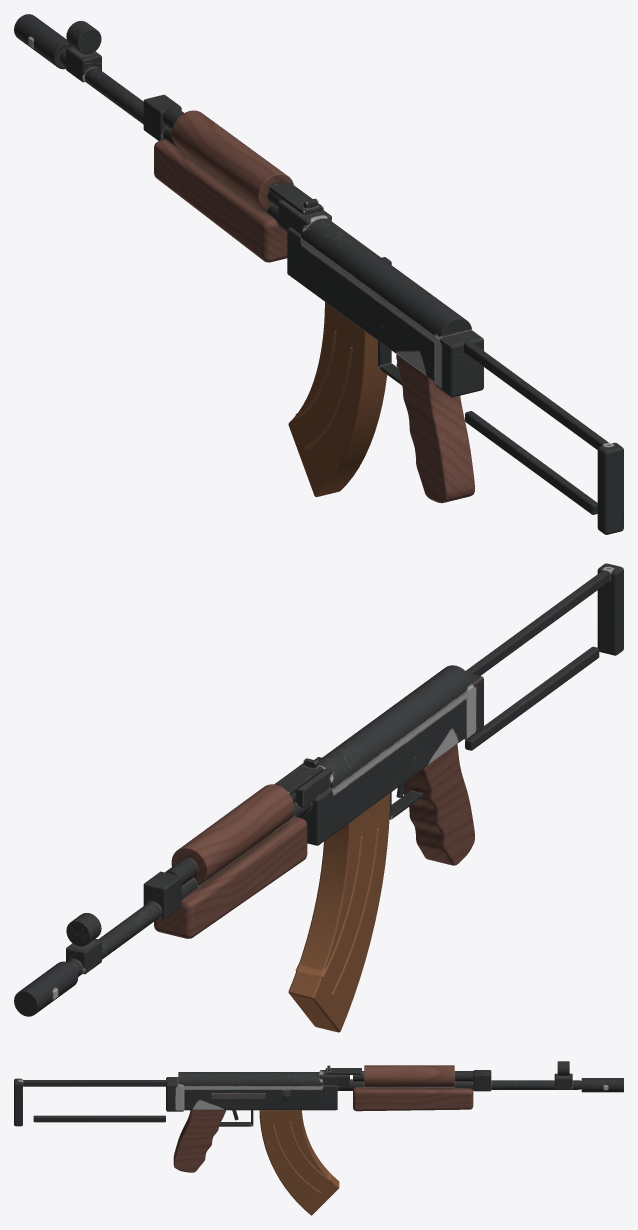
The picture shows the model from 3 angles, top to bottom: view 1: azimuth 30°, elevation 25°; view 2: azimuth 150°, elevation 25°; view 3: azimuth 270°, elevation 25°; orthographic projection. The views are drawn at different scales.
Parts seen in each view (by area): view 1: Frame, Mag_body, Stock; view 2: Frame, Mag_body, Stock; view 3: Frame, Mag_body, Stock.
Boxes of the visible parts, x1,y1,x2,y2 form: Frame: (14,14,483,503); Mag_body: (288,302,387,496); Stock: (464,340,623,534); Frame: (14,665,483,1016); Mag_body: (288,793,390,1032); Stock: (465,563,623,750); Frame: (166,1061,623,1172); Mag_body: (259,1110,339,1215); Stock: (14,1078,167,1126).
Size of the model in its own units: 0.0589 by 0.2756 by 1.01.
5 materials, 5 textured.
